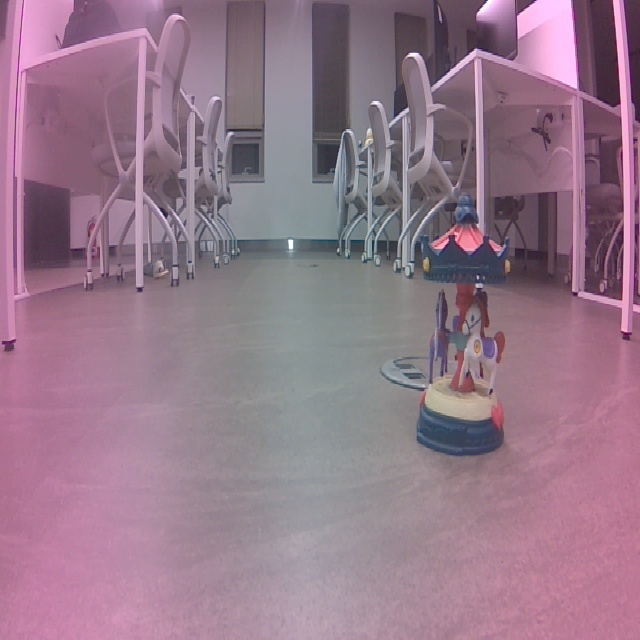목적지: (402, 190, 530, 463)
